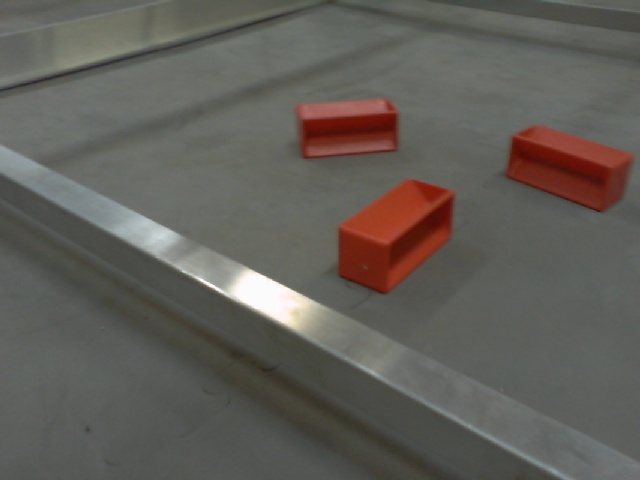RedSample: (338, 173, 455, 297), (505, 123, 632, 212), (289, 96, 399, 158)
